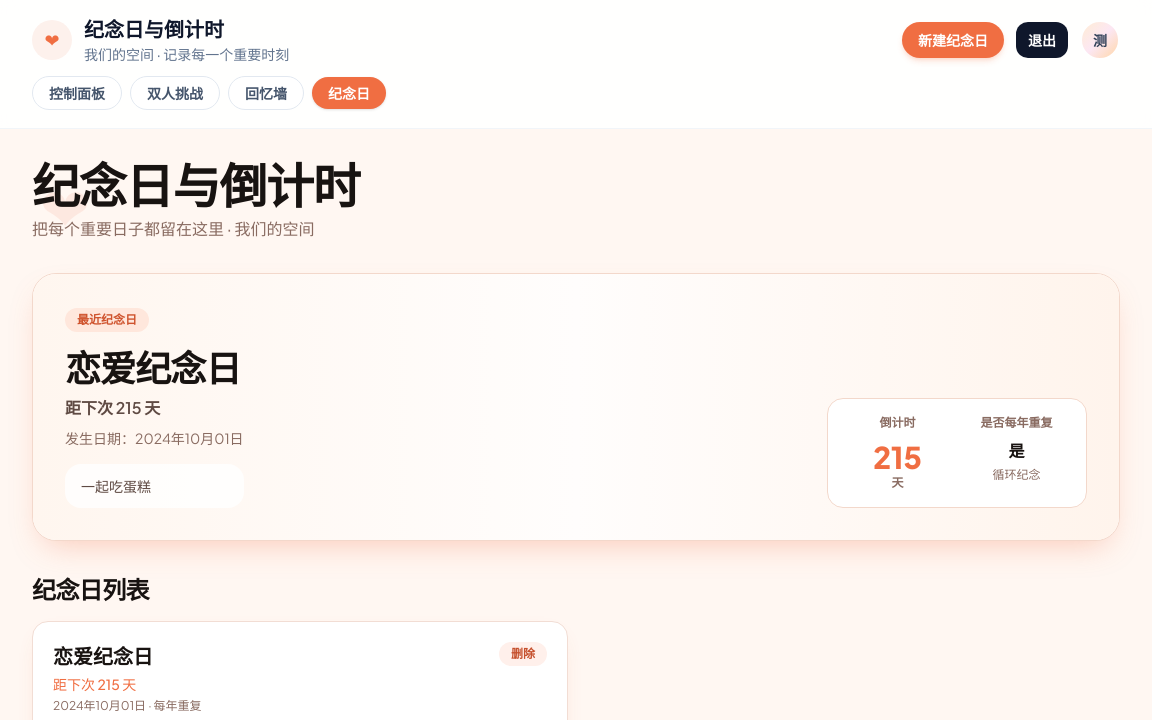
Test: AnniversariesPage › 创建弹窗在必填缺失时禁用提交，填写后可创建
This screenshot has width=1152, height=720.
expect the button named "删除-恋爱纪念日" is shown: met, box [499,642,547,666]
Step 1. Click the button "新建纪念日" → x=953, y=40, box [902,22,1004,58]
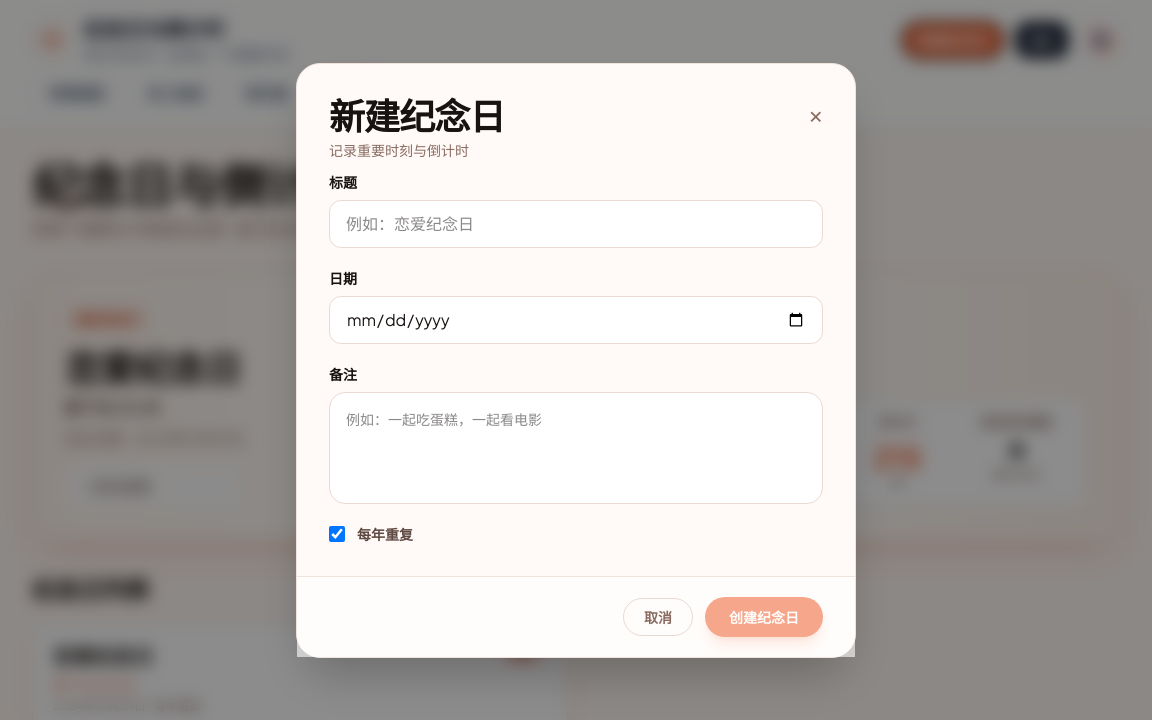
expect the dialog is shown: met, box [296,62,856,658]
expect the button "创建纪念日" is disabled: met, box [705,596,823,636]
Step 2. Type "第一次约会" into the field labelled "标题" → x=576, y=224, box [329,200,823,248]
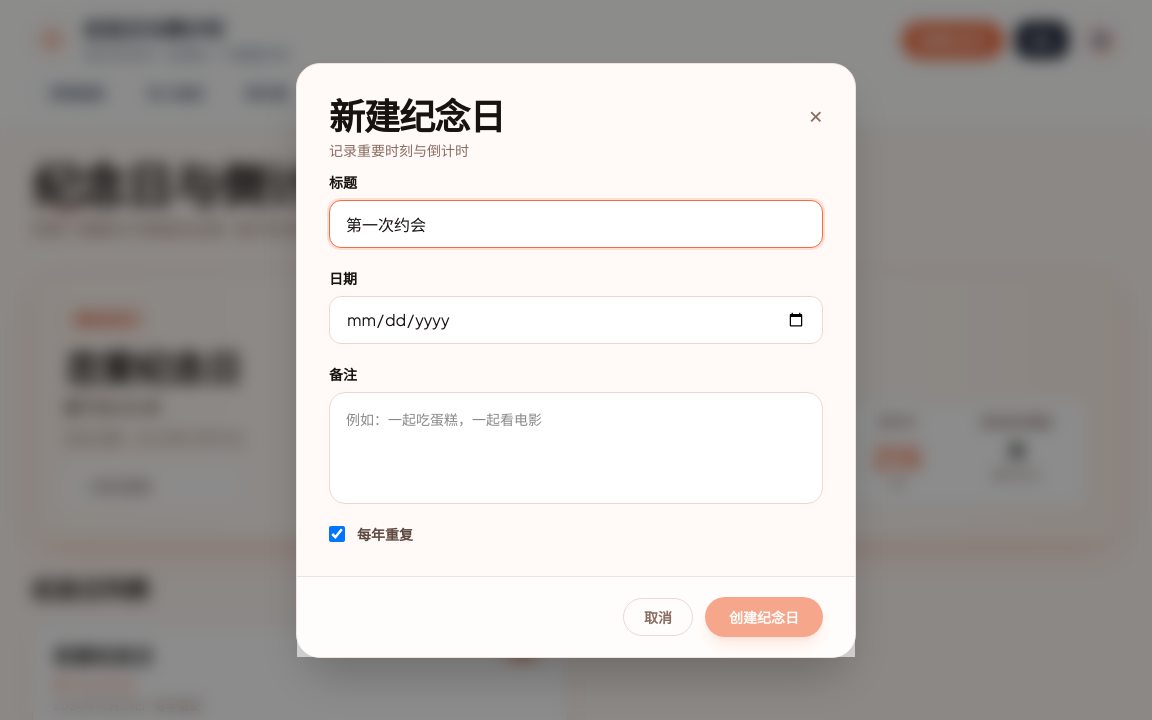
expect the button "创建纪念日" is disabled: met, box [705,596,823,636]
Step 3. Type "2025-08-18" into the date field labelled "日期" → x=576, y=320, box [329,296,823,344]
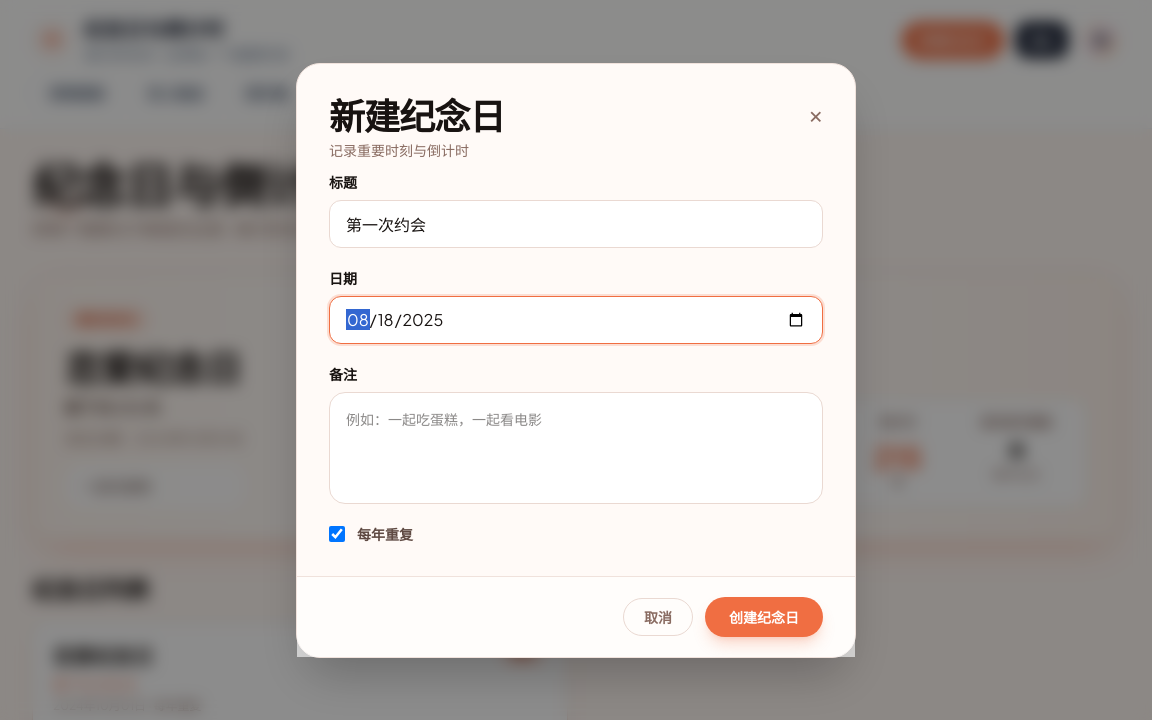
expect the button "创建纪念日" is enabled: met, box [705,596,823,636]
Step 4. Type "看电影" into the text box labelled "备注" → x=576, y=448, box [329,392,823,504]
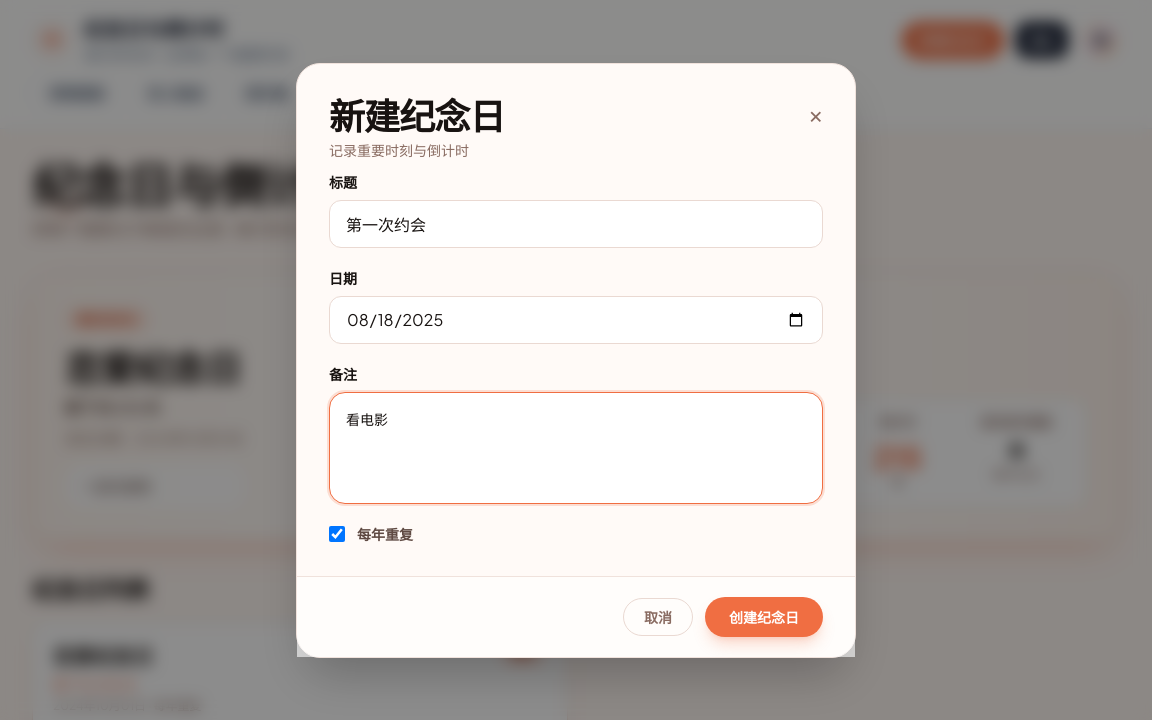
Step 5. Click the button "创建纪念日" → x=764, y=616, box [705,596,823,636]
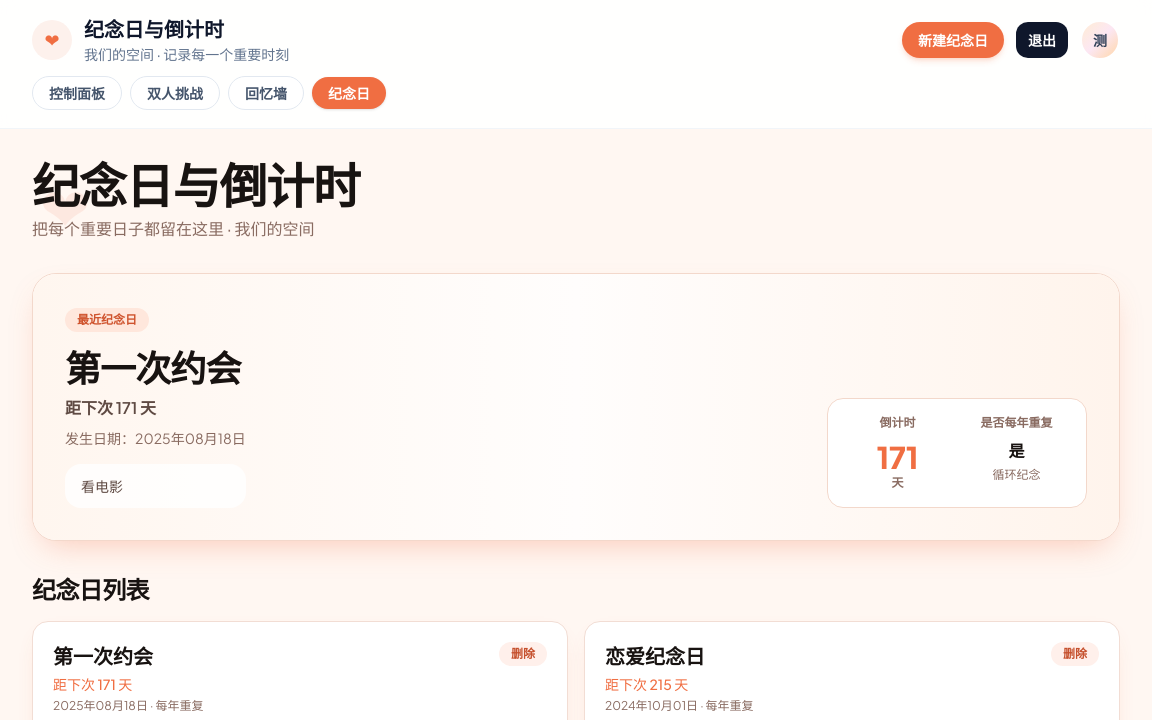
expect the heading "第一次约会" below "最近纪念日" is shown: met, box [65,345,240,390]
